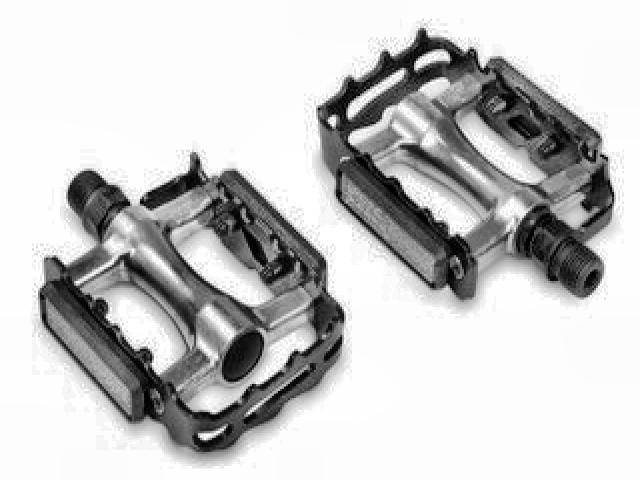pedal: (36, 151, 350, 458), (309, 22, 614, 305)
